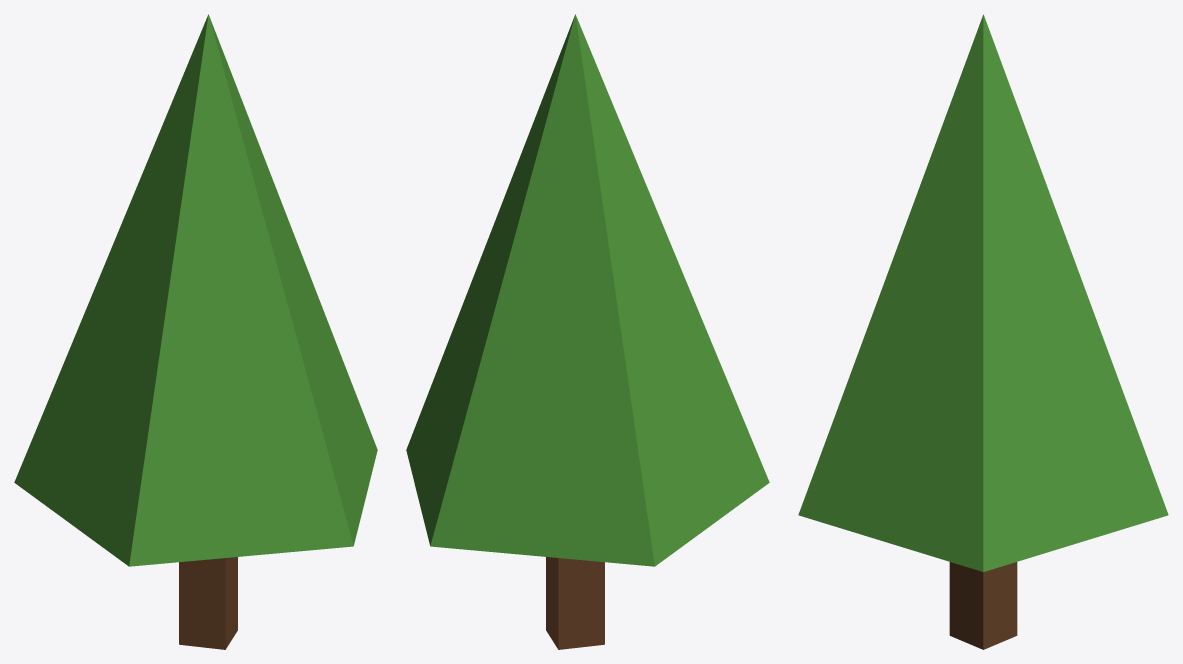
The model's file is SM_PineFar_G.glb.
The picture shows the model from 3 angles, left to right: view 1: azimuth 30°, elevation 25°; view 2: azimuth 150°, elevation 25°; view 3: azimuth 270°, elevation 25°; orthographic projection.
Visible parts, largest first — view 1: SM_PineFar_G; view 2: SM_PineFar_G; view 3: SM_PineFar_G.
Boxes of the visible parts, left/top/right/bottom form: SM_PineFar_G: left=14, top=14, right=377, bottom=649; SM_PineFar_G: left=406, top=14, right=769, bottom=649; SM_PineFar_G: left=798, top=14, right=1168, bottom=649.
Size of the model in its own units: 4.16 by 8.1 by 4.37.
1 material, 1 textured.
